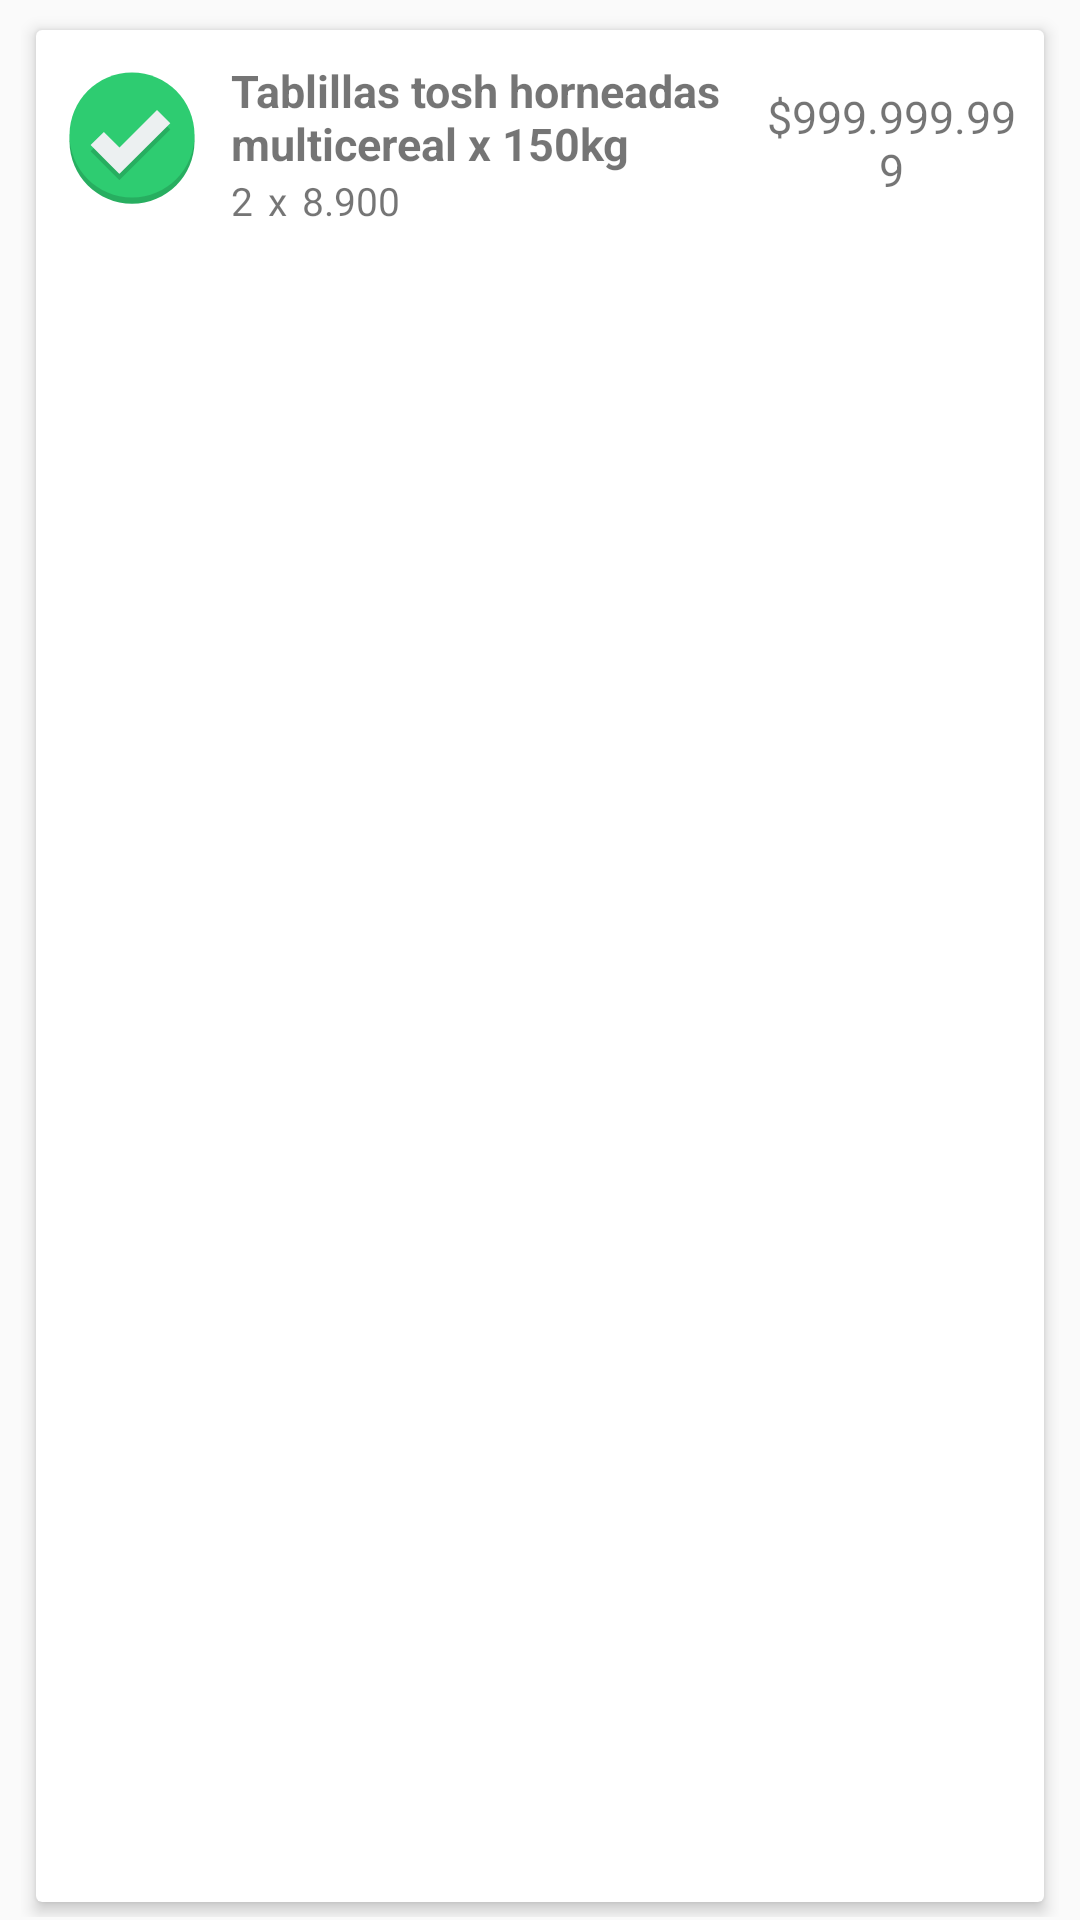

Where icons sit on this 1080 × 1920 app screen, as {"left": x1, "top": y1, "right": x2, "bottom": y2}:
check ahorro: {"left": 69, "top": 72, "right": 195, "bottom": 204}
